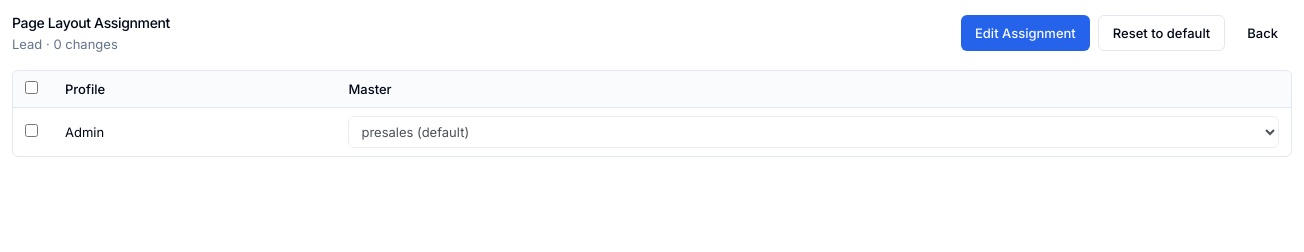
Test: PageLayoutAssignment › allows selected profiles to save the chosen layout even when it matches the current default
The width and height of the screenshot is (1304, 252).
Later steps or results of the test are not shown.
Click the button "Edit Assignment". click: coordinates (1025, 33)
box: [961,15,1090,51]
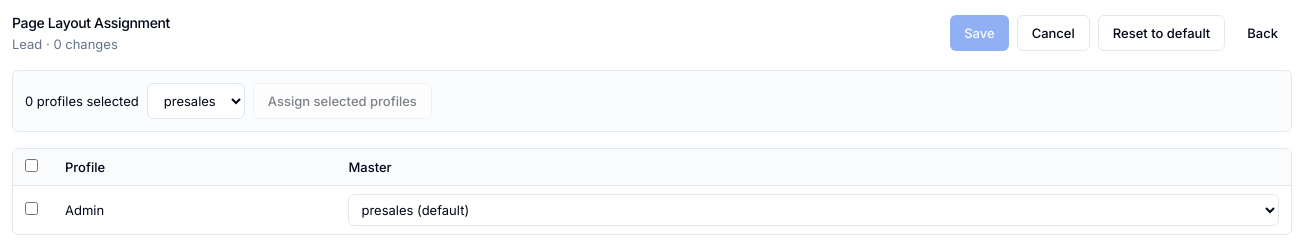
Click the checkbox named "Select Admin". click: coordinates (32, 208)
box: [25,202,38,215]
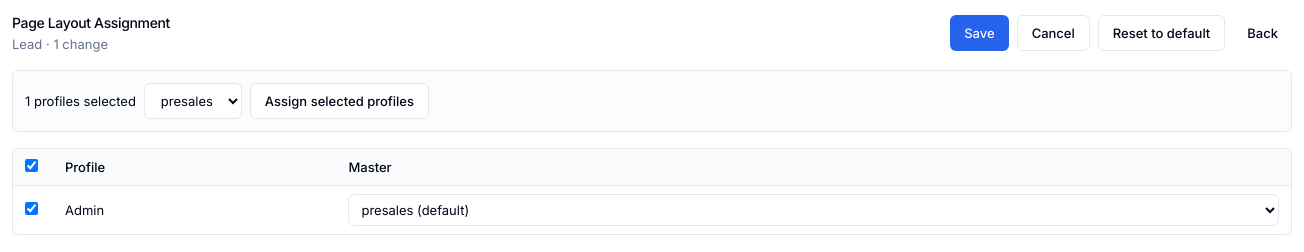
Result: the button "Save" is enabled at [950,15,1009,51]
